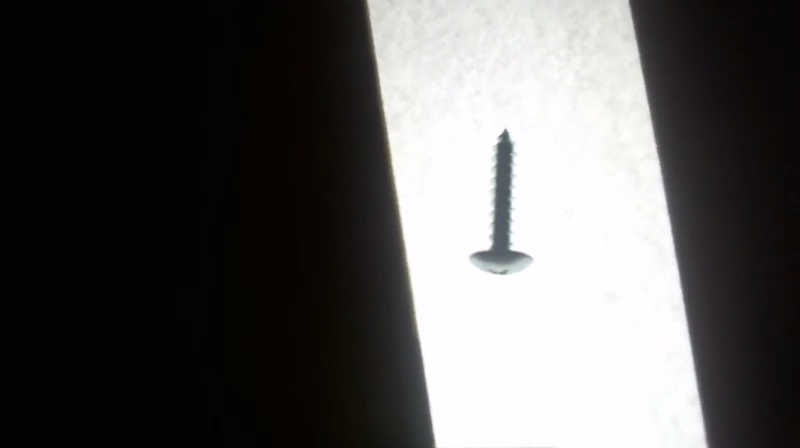S003: (463, 125, 537, 281)
